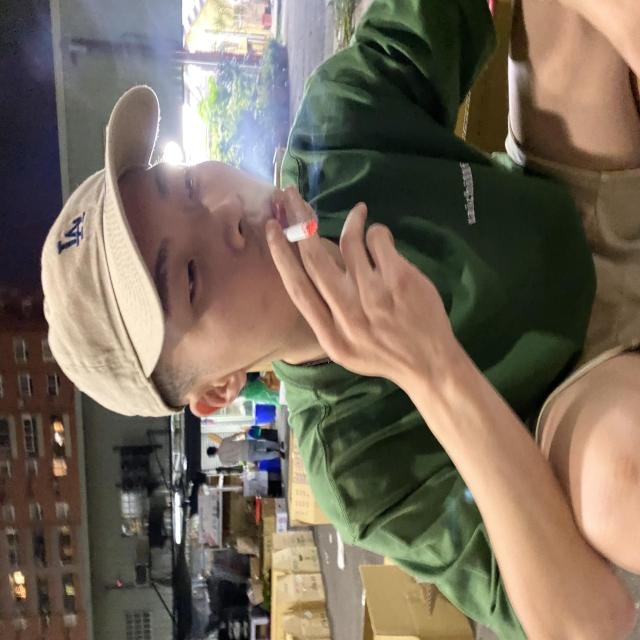cigarette: (268, 212, 330, 250)
